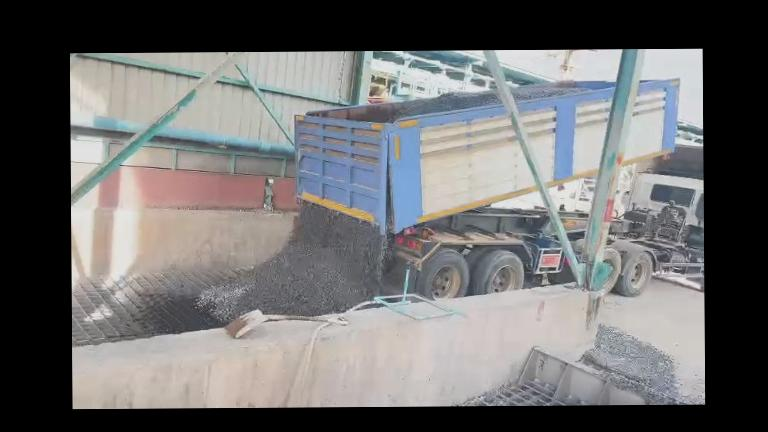gravel: (198, 202, 386, 322), (582, 325, 704, 403), (388, 90, 501, 122), (511, 84, 587, 102)
